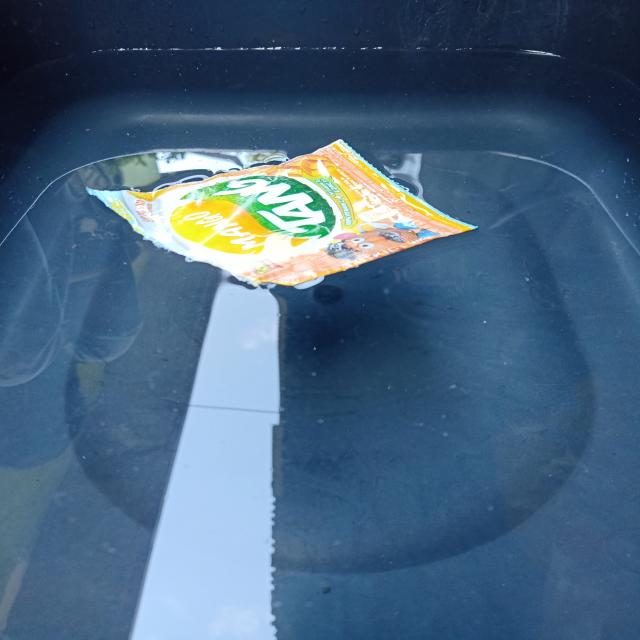Plastic Wrapper: (77, 134, 485, 298)
